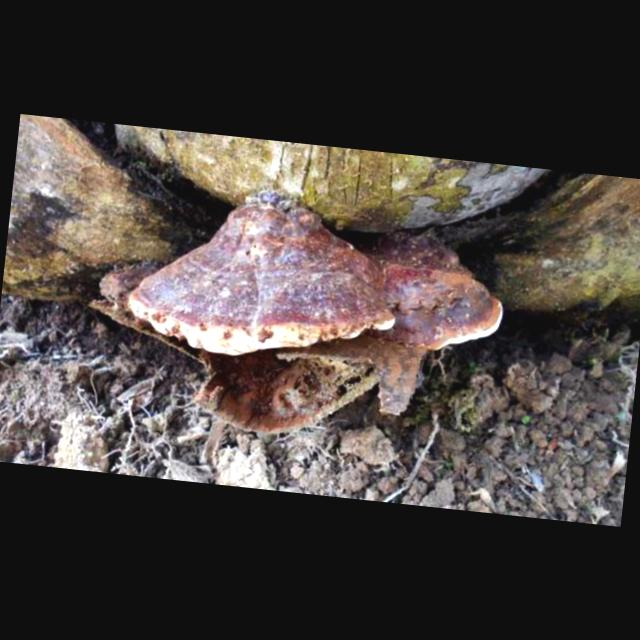ganoderma: (125, 183, 410, 376), (352, 226, 513, 361)
